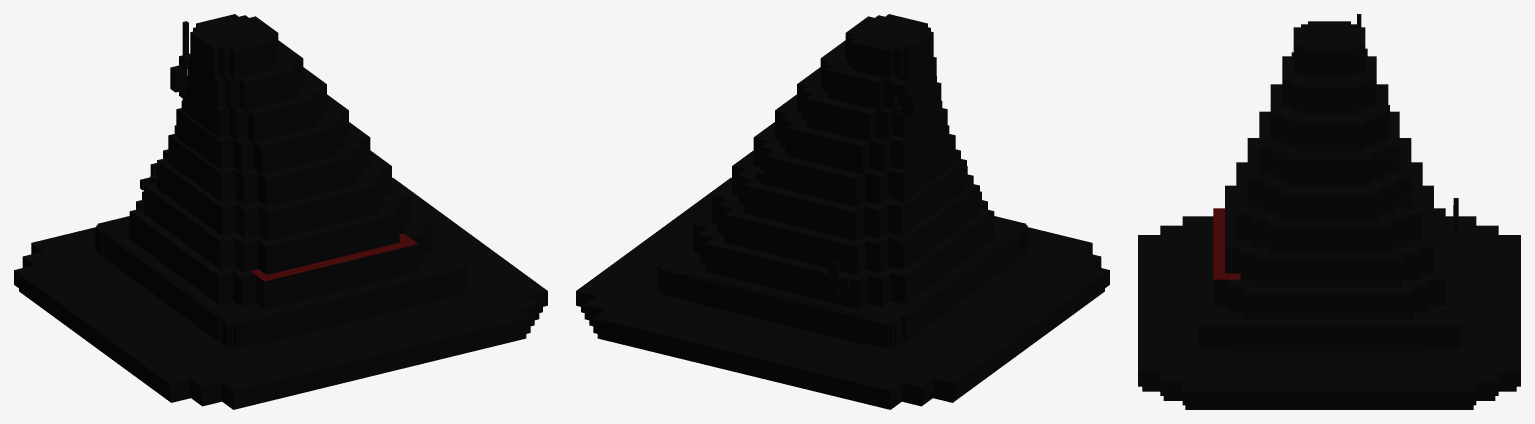
Rendered from hat_midnight_wizard.obj.
3 views of the same model, side by side, from view 1: azimuth 30°, elevation 25°; view 2: azimuth 150°, elevation 25°; view 3: azimuth 270°, elevation 25° (orthographic). The views are drawn at different scales.
Size of the model in its own units: 0.8125 by 0.5888 by 0.75.
